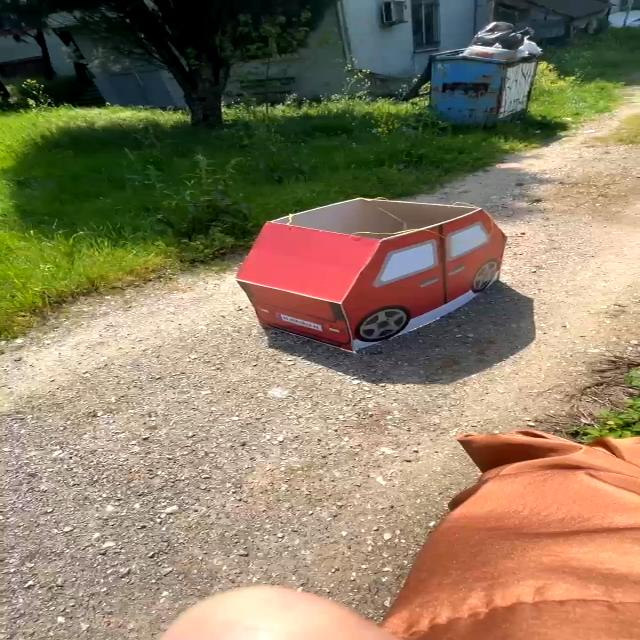red_car: (205, 187, 518, 359)
